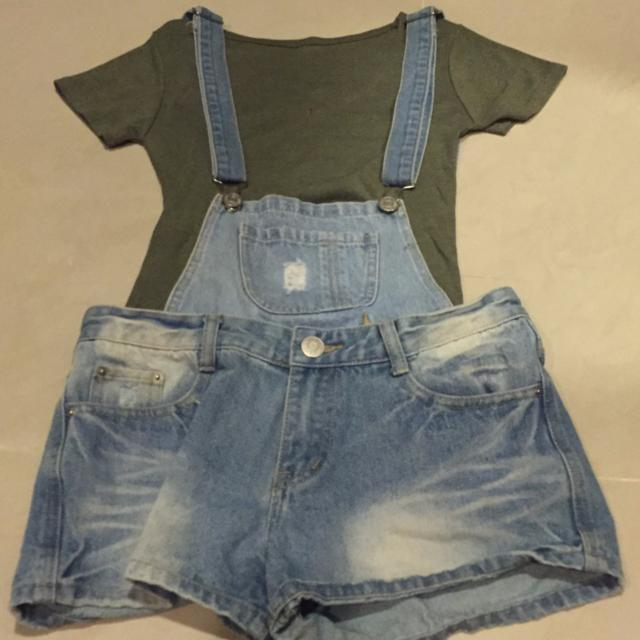Shorts: (12, 309, 621, 631)
Tops: (54, 14, 568, 298)
